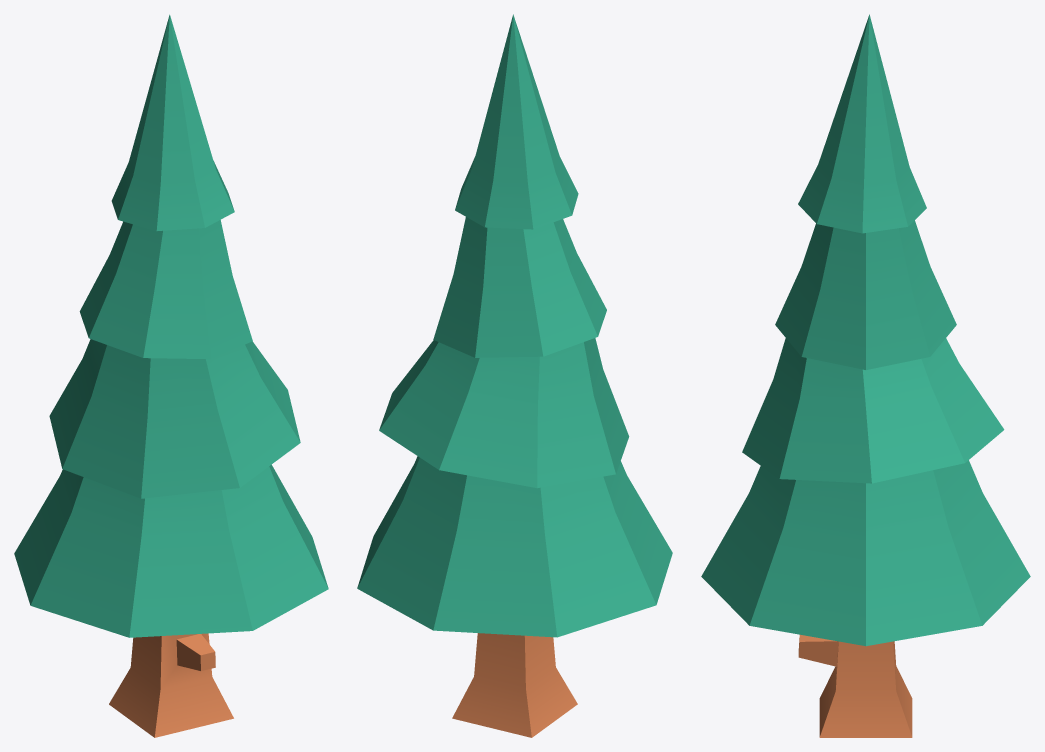
The model's file is treeCrooked.dae.
3 views of the same model, side by side, from view 1: azimuth 30°, elevation 25°; view 2: azimuth 150°, elevation 25°; view 3: azimuth 270°, elevation 25° (orthographic).
Visible parts, largest first — view 1: treeCrooked; view 2: treeCrooked; view 3: treeCrooked.
Part boxes in pixels (<box>): treeCrooked: <box>14,14,328,737</box>; treeCrooked: <box>357,14,672,737</box>; treeCrooked: <box>701,14,1030,737</box>.
Size of the model in its own units: 1.02 by 2.41 by 1.02.
